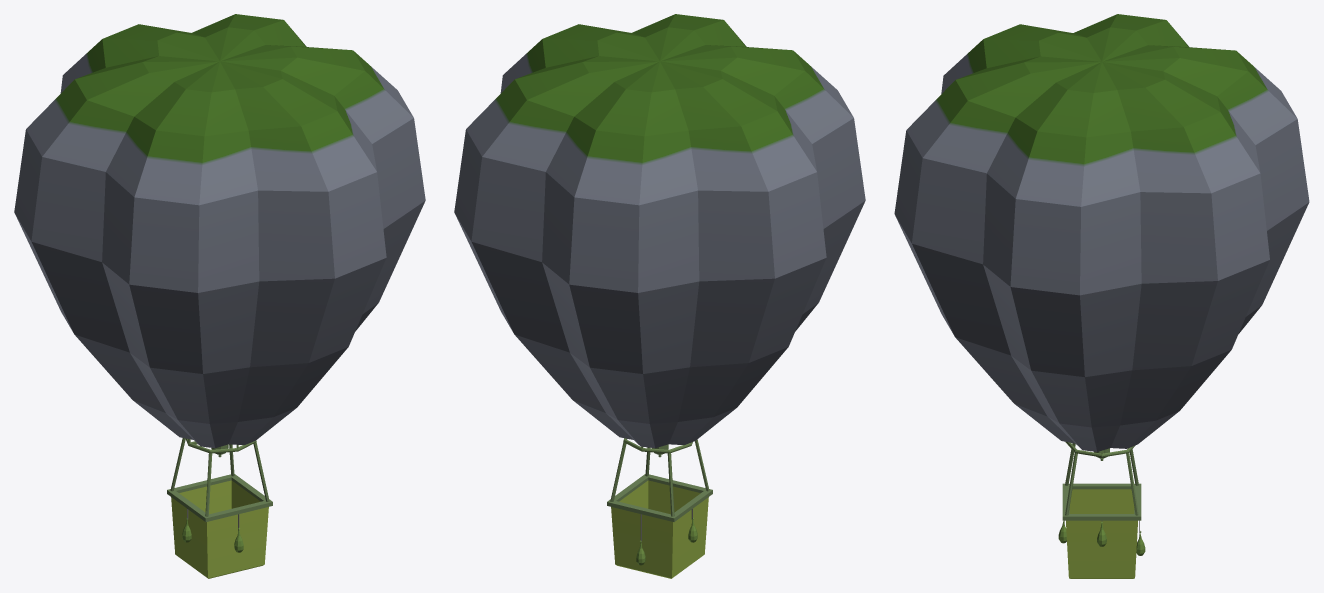
Rendered from AirBalloon_01.fbx.
The picture shows the model from 3 angles, left to right: view 1: azimuth 30°, elevation 25°; view 2: azimuth 150°, elevation 25°; view 3: azimuth 270°, elevation 25°; orthographic projection.
Parts seen in each view (by area): view 1: AirBalloon_01; view 2: AirBalloon_01; view 3: AirBalloon_01.
Boxes of the visible parts, box(x1,y1,x2,y2) form: AirBalloon_01: box(14, 14, 425, 578); AirBalloon_01: box(454, 14, 865, 578); AirBalloon_01: box(894, 14, 1309, 578).
Size of the model in its own units: 6.79 by 9.15 by 6.81.
